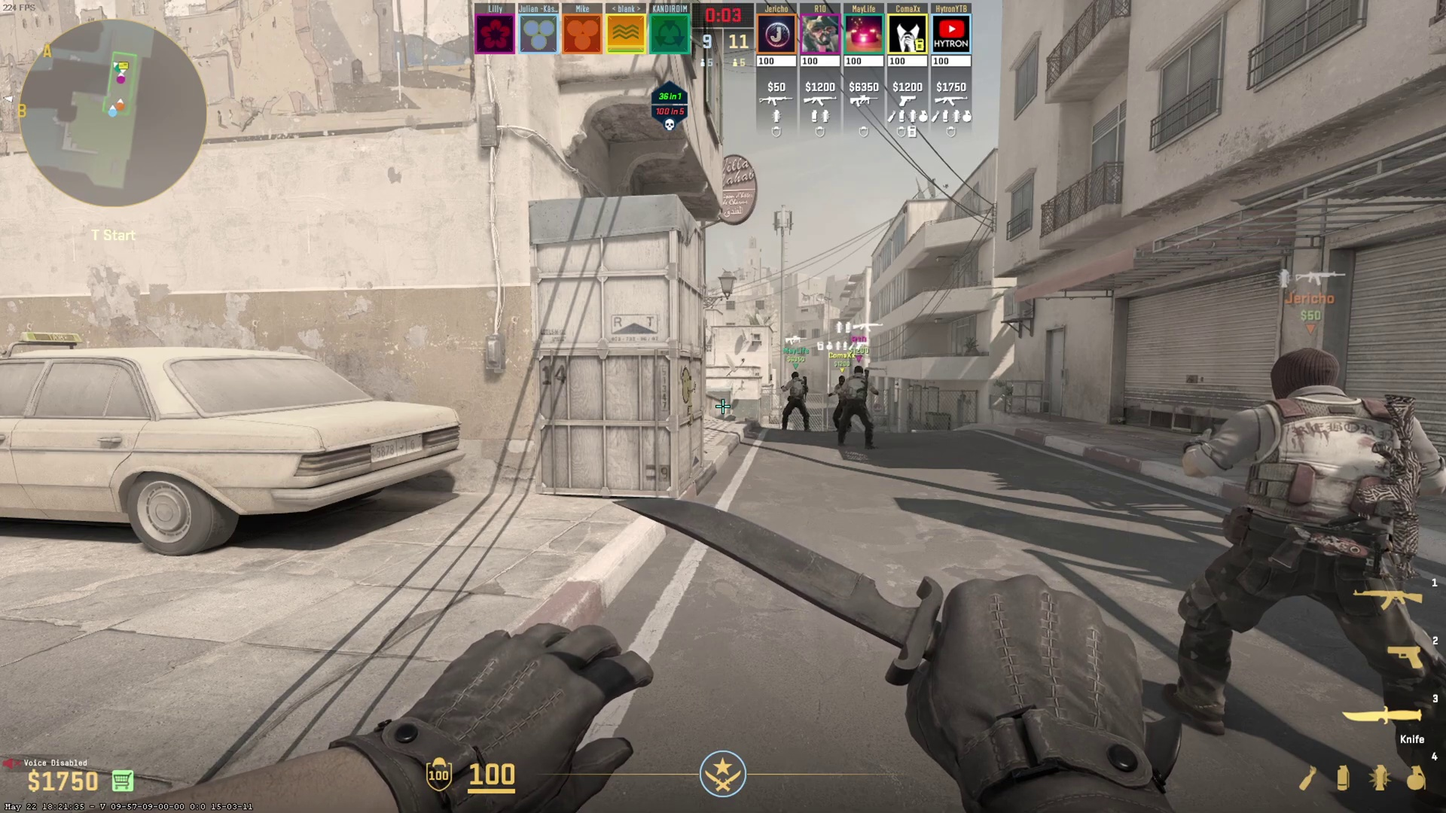Terrorist: (1185, 347, 1446, 738), (845, 366, 878, 449), (783, 372, 809, 432), (831, 375, 845, 427)
